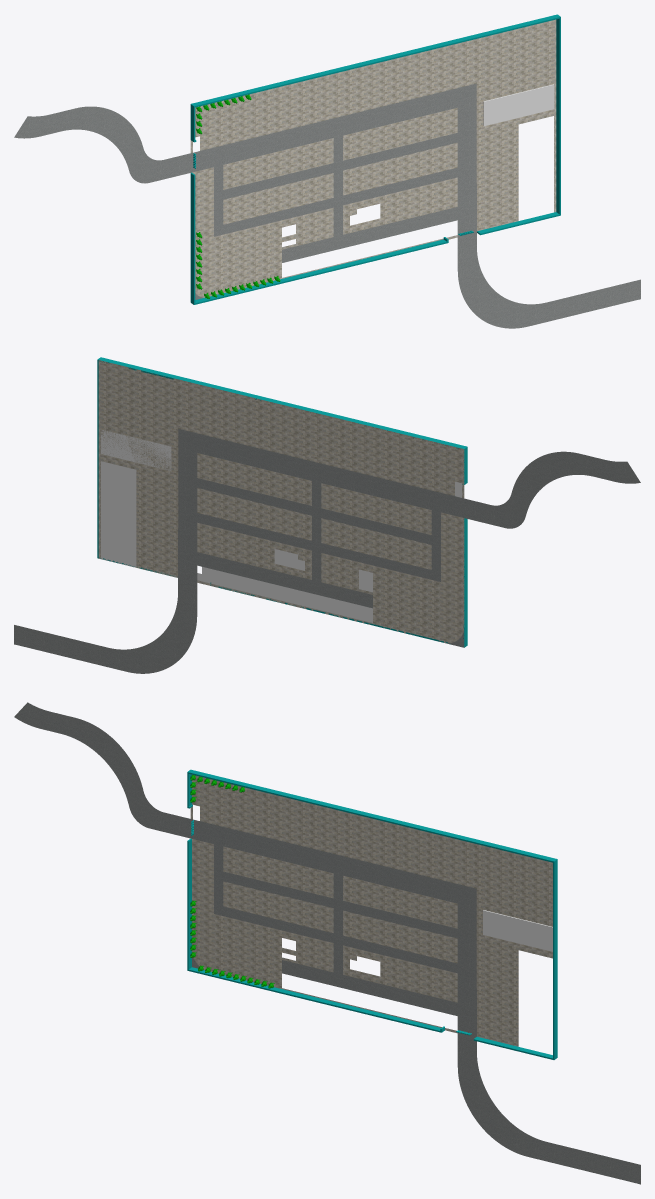
File: landmark.gltf
3 views of the same model, one above another, from view 1: azimuth 30°, elevation 25°; view 2: azimuth 150°, elevation 25°; view 3: azimuth 330°, elevation 25° (orthographic).
Visible parts, largest first — view 1: Group_86, Group_105, Group_48; view 2: Group_86, Group_105, Group_48; view 3: Group_86, Group_105, Group_48.
Part boxes in pixels (bbox=[...]): Group_86: bbox=[190, 19, 556, 299]; Group_105: bbox=[14, 106, 640, 328]; Group_48: bbox=[483, 84, 554, 126]; Group_86: bbox=[98, 360, 464, 647]; Group_105: bbox=[14, 451, 640, 673]; Group_48: bbox=[101, 430, 171, 470]; Group_86: bbox=[190, 775, 552, 1046]; Group_105: bbox=[14, 702, 640, 1184]; Group_48: bbox=[483, 910, 552, 951].
Size of the model in its own units: 10533 by 5340 by 171.
5 materials, 2 textured.
